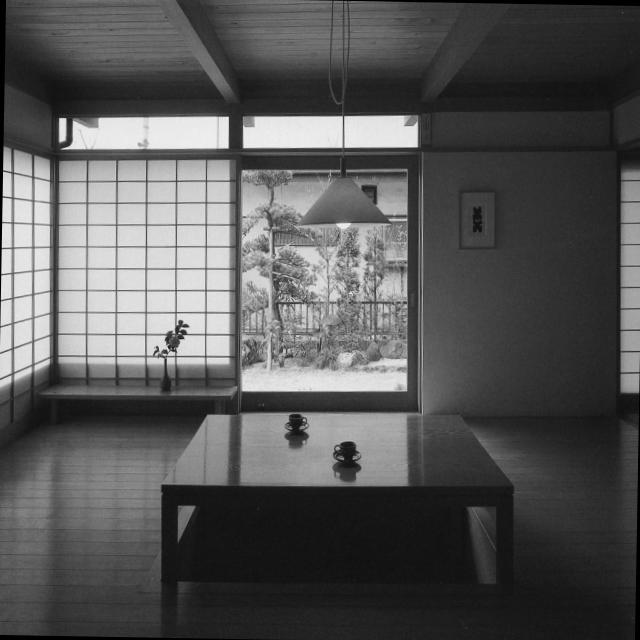lamp crop: (570, 49, 592, 66)
table -X: (542, 113, 617, 160)
vase -X: (541, 100, 544, 109)
